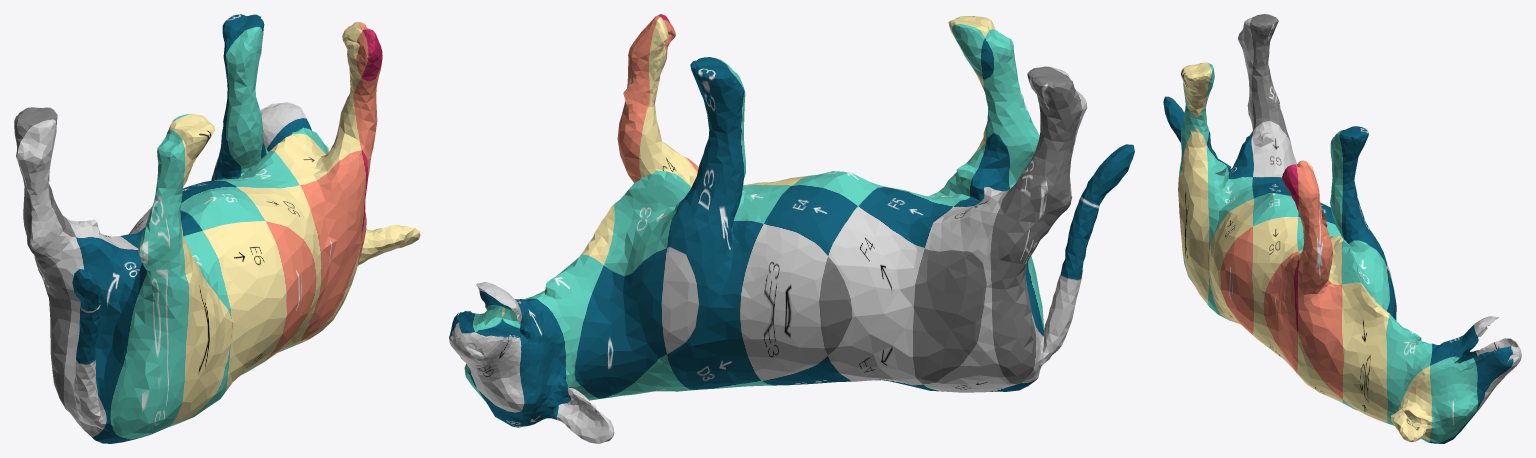
Rendered from cow_04-cow_04.obj.
The picture shows the model from 3 angles, left to right: view 1: azimuth 30°, elevation 25°; view 2: azimuth 150°, elevation 25°; view 3: azimuth 270°, elevation 25°; orthographic projection. The views are drawn at different scales.
Parts seen in each view (by area): view 1: cow_04-cow_04_export; view 2: cow_04-cow_04_export; view 3: cow_04-cow_04_export.
Boxes of the visible parts, bbox=[...] form: cow_04-cow_04_export: bbox=[14, 14, 420, 443]; cow_04-cow_04_export: bbox=[449, 14, 1134, 443]; cow_04-cow_04_export: bbox=[1163, 14, 1521, 443].
Bounding box in the file's own units: 0.8521 × 0.5666 × 0.6736.
